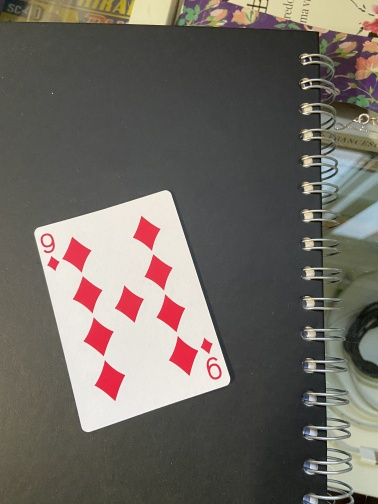nine: (33, 188, 232, 433)
